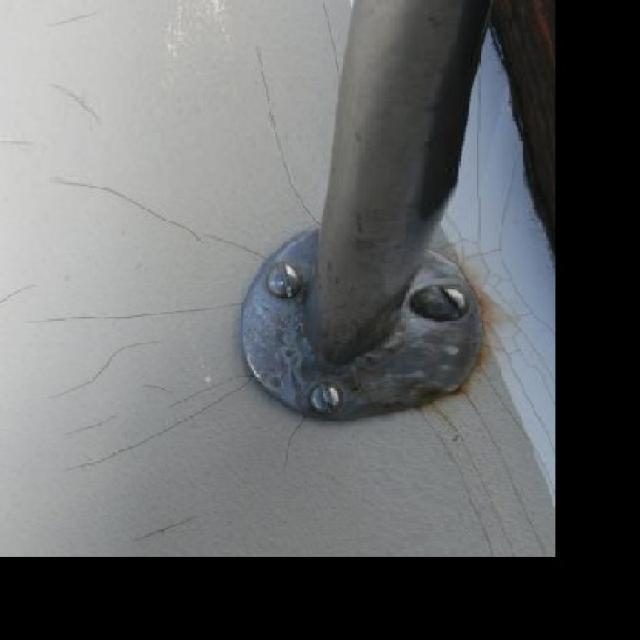crack: (72, 378, 261, 480), (54, 175, 194, 260), (246, 54, 311, 218), (21, 298, 237, 335), (43, 335, 169, 398), (55, 399, 137, 438), (127, 383, 181, 414)
